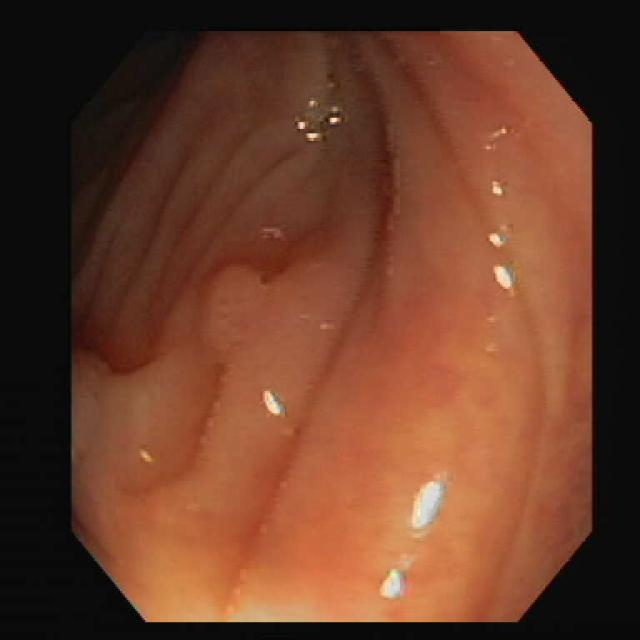tumor: (72, 353, 138, 524), (200, 264, 267, 358)
